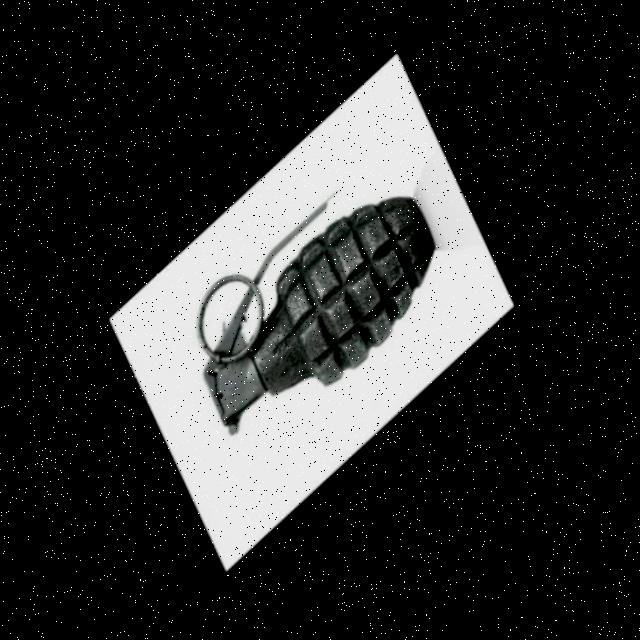grenade: (157, 159, 465, 478)
